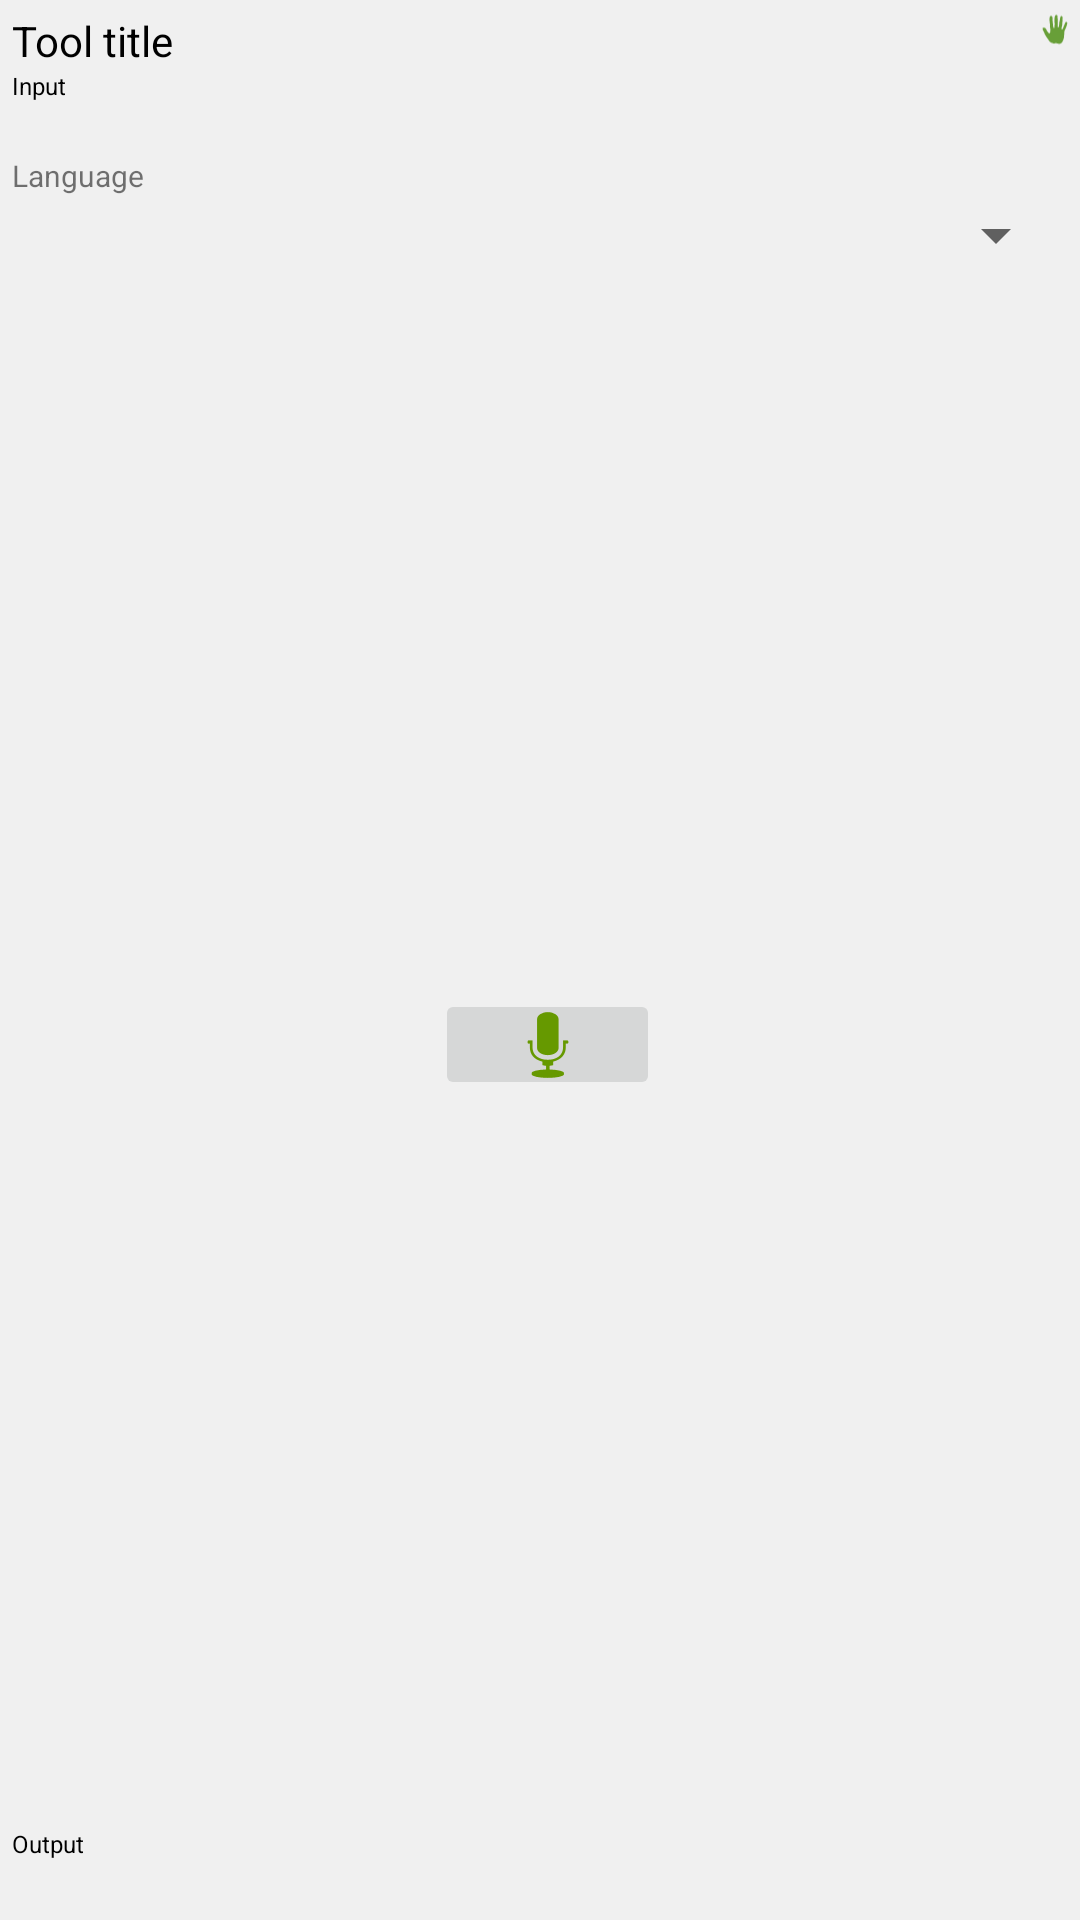

Where to tap for icons on this 1080×1920 app screen, as (x,y):
hand: (1055,29)
speak now: (547,1044)
